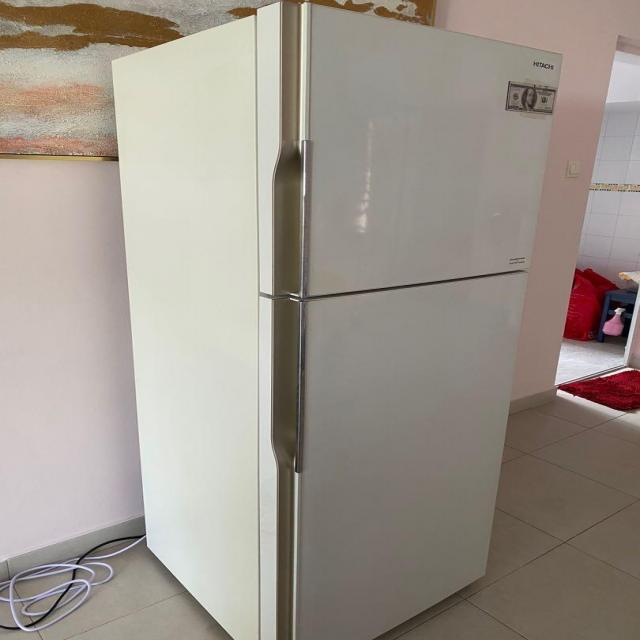refrigerator: (256, 2, 568, 639)
